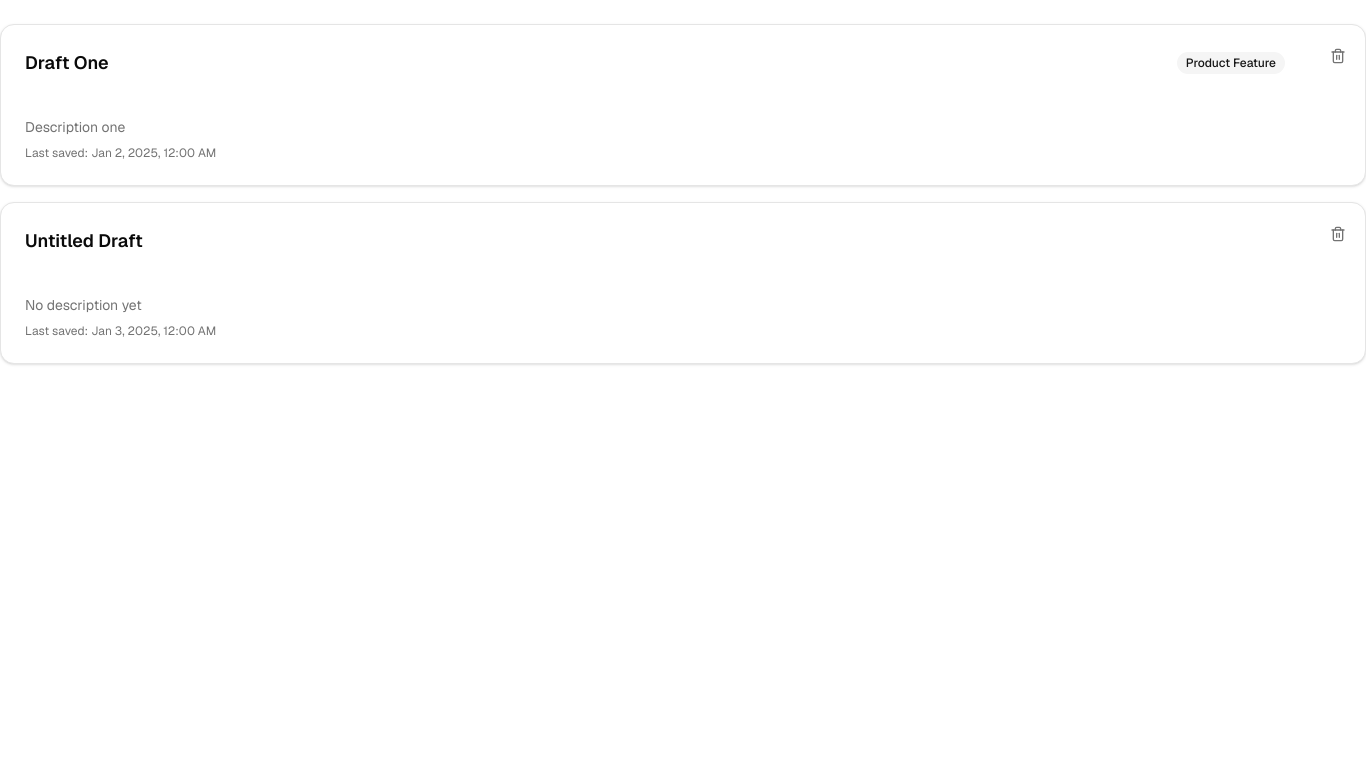
it: DraftListClient › removes draft from list on successful deletion
Expected: the text "Draft One" is shown, [25,49,109,77]
Click the button named "delete" next to "Product Feature".
click(1338, 56)  # box [1322,40,1354,72]
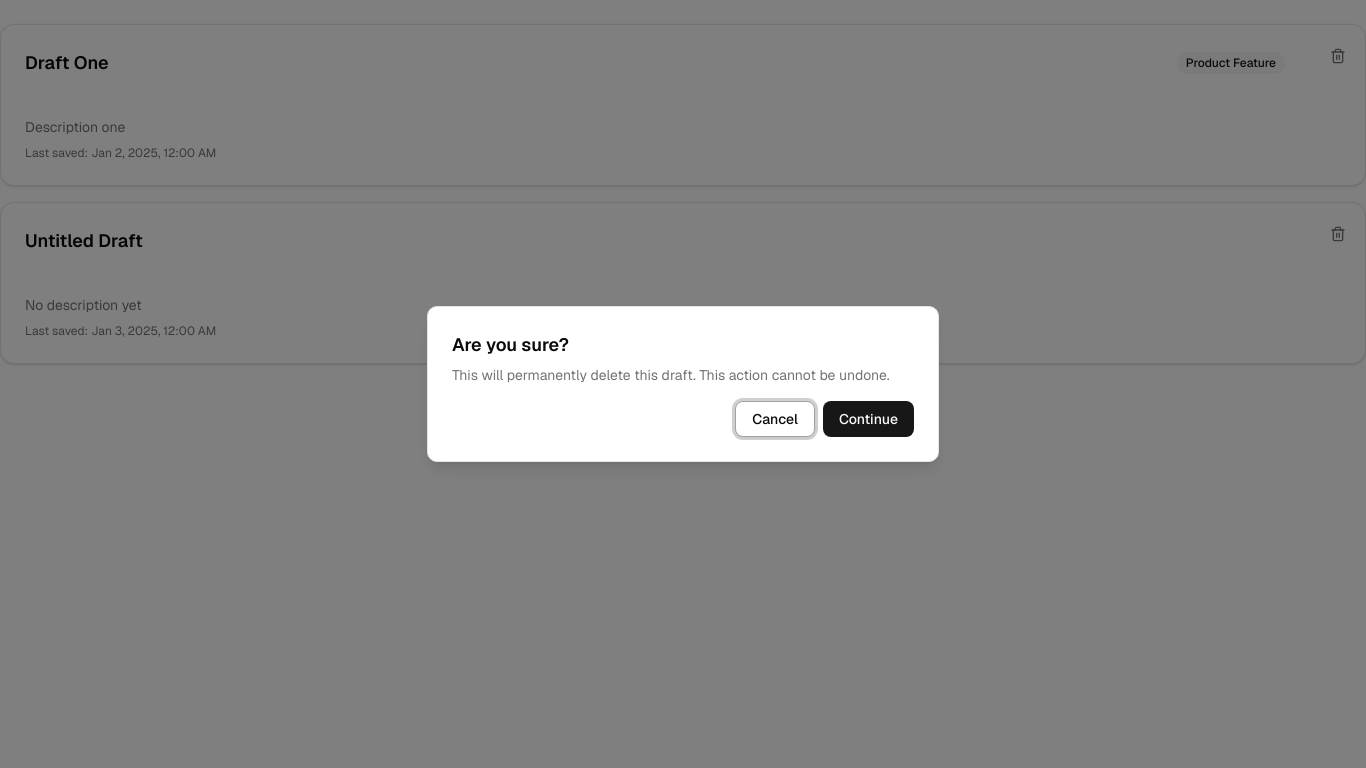
Expected: the button "Continue" is shown
Click the button "Continue".
click(868, 419)  # box [823,401,914,437]
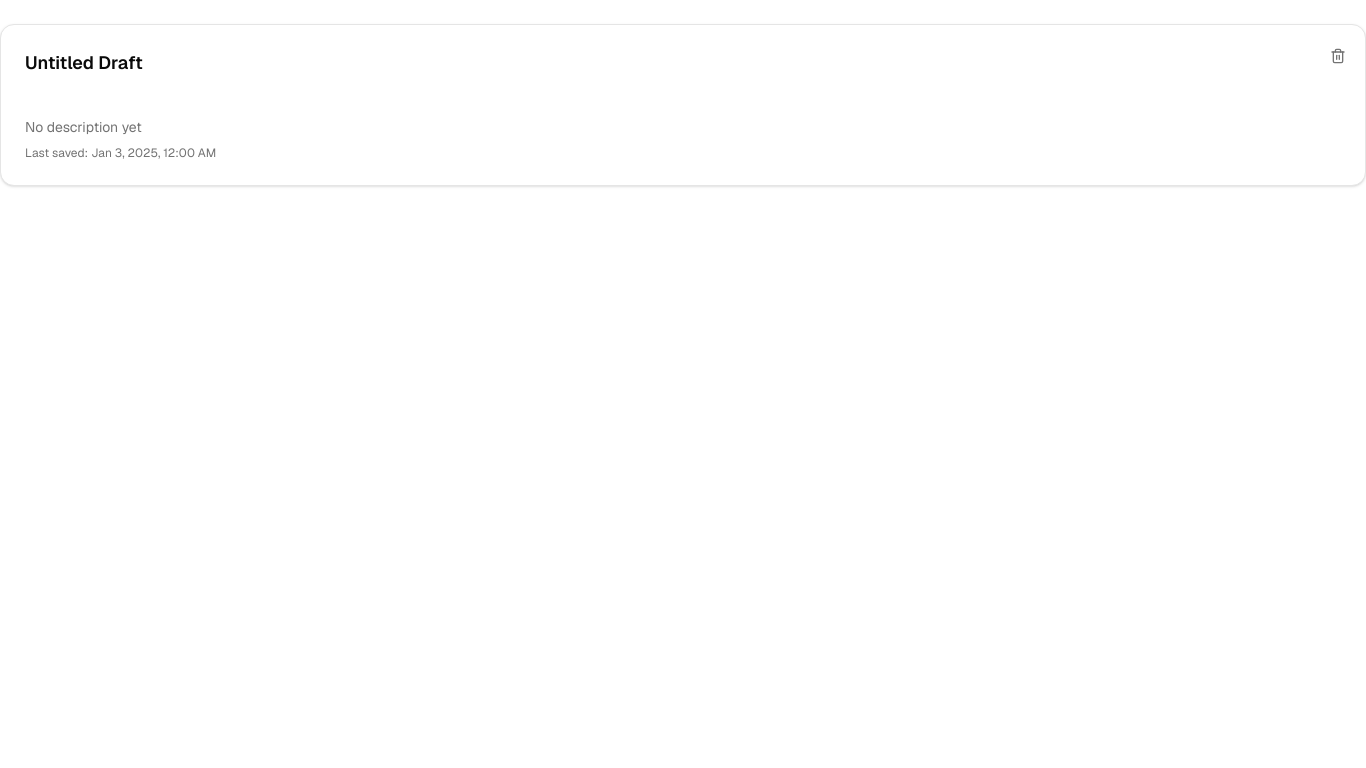
Expected: the link "Draft One" is gone
